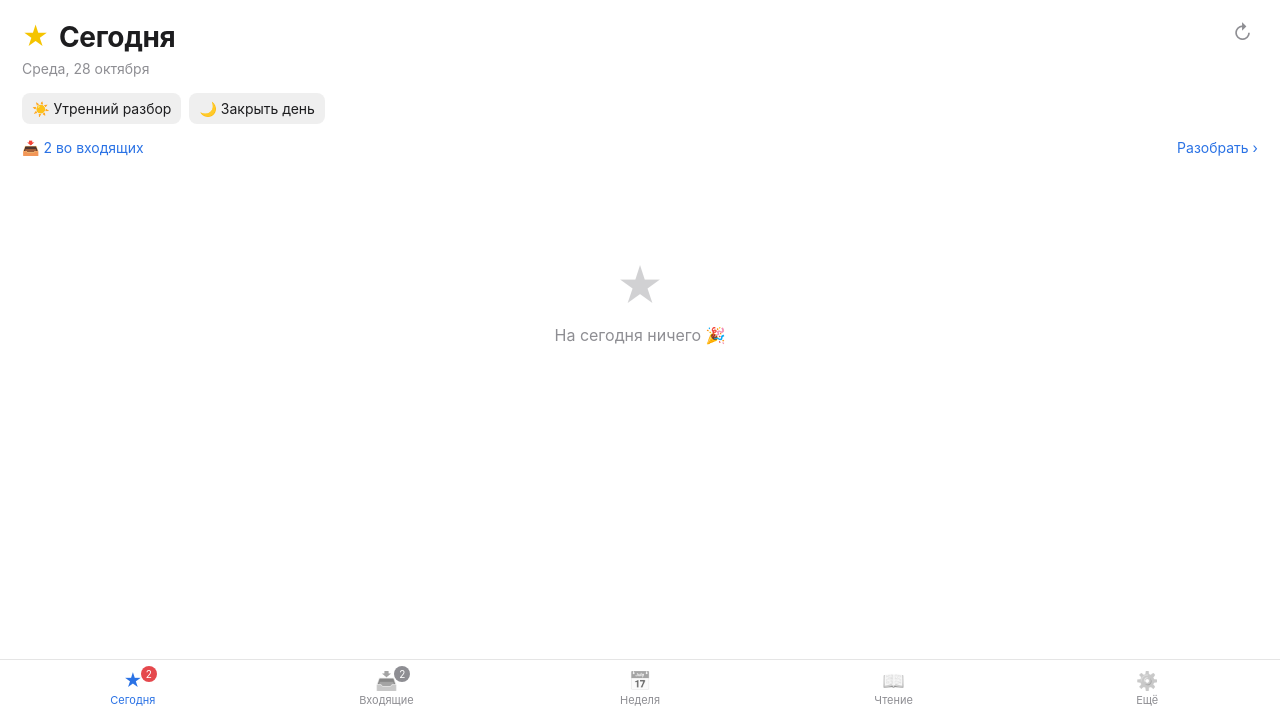
Входящие › показывает элементы и счётчик
This screenshot has width=1280, height=720.
What coordinates should you click on to do the following:
click the tab "📥 Входящие 2"
I would click on:
 (386, 689)
Its box is [260, 666, 513, 712].
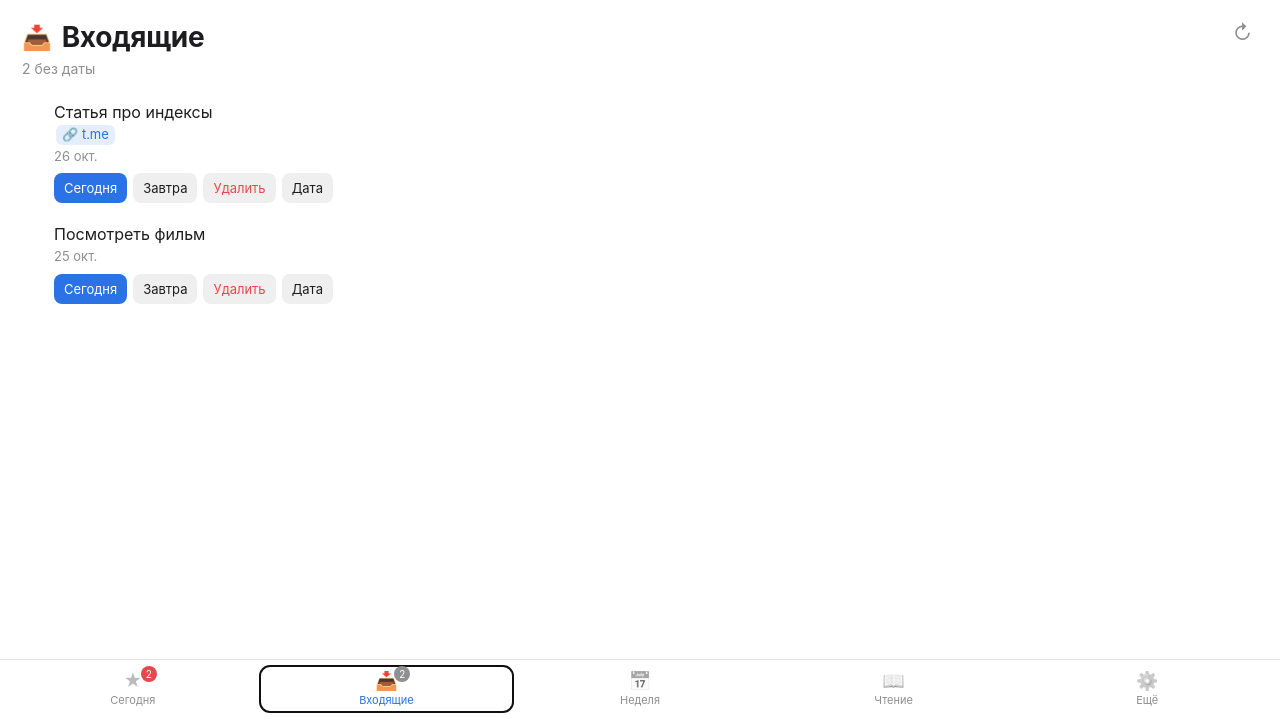
Result: the text "Статья про индексы" is shown at [54, 102, 212, 122]
Result: the text "Посмотреть фильм" is shown at [54, 224, 205, 244]
Result: the heading shows "Входящие" at [62, 20, 204, 54]
